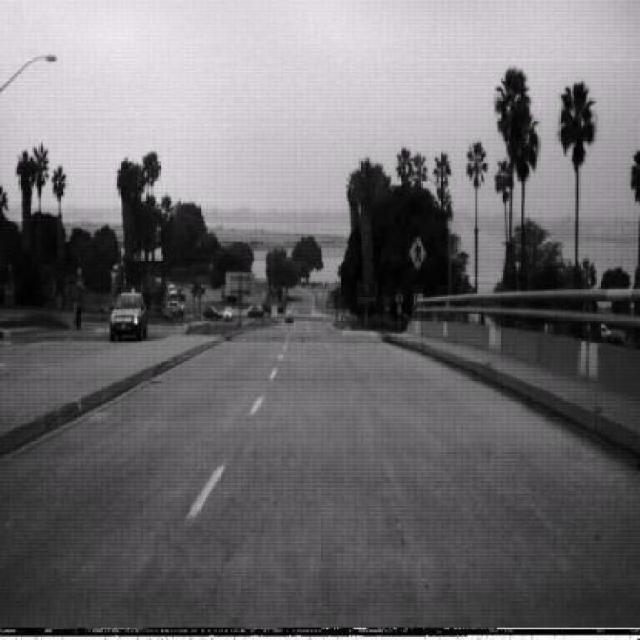pedestrianCrossing: (408, 235, 426, 270)
